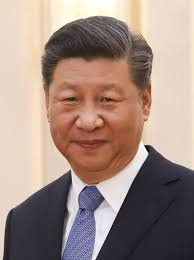noMask: (36, 14, 160, 181)
